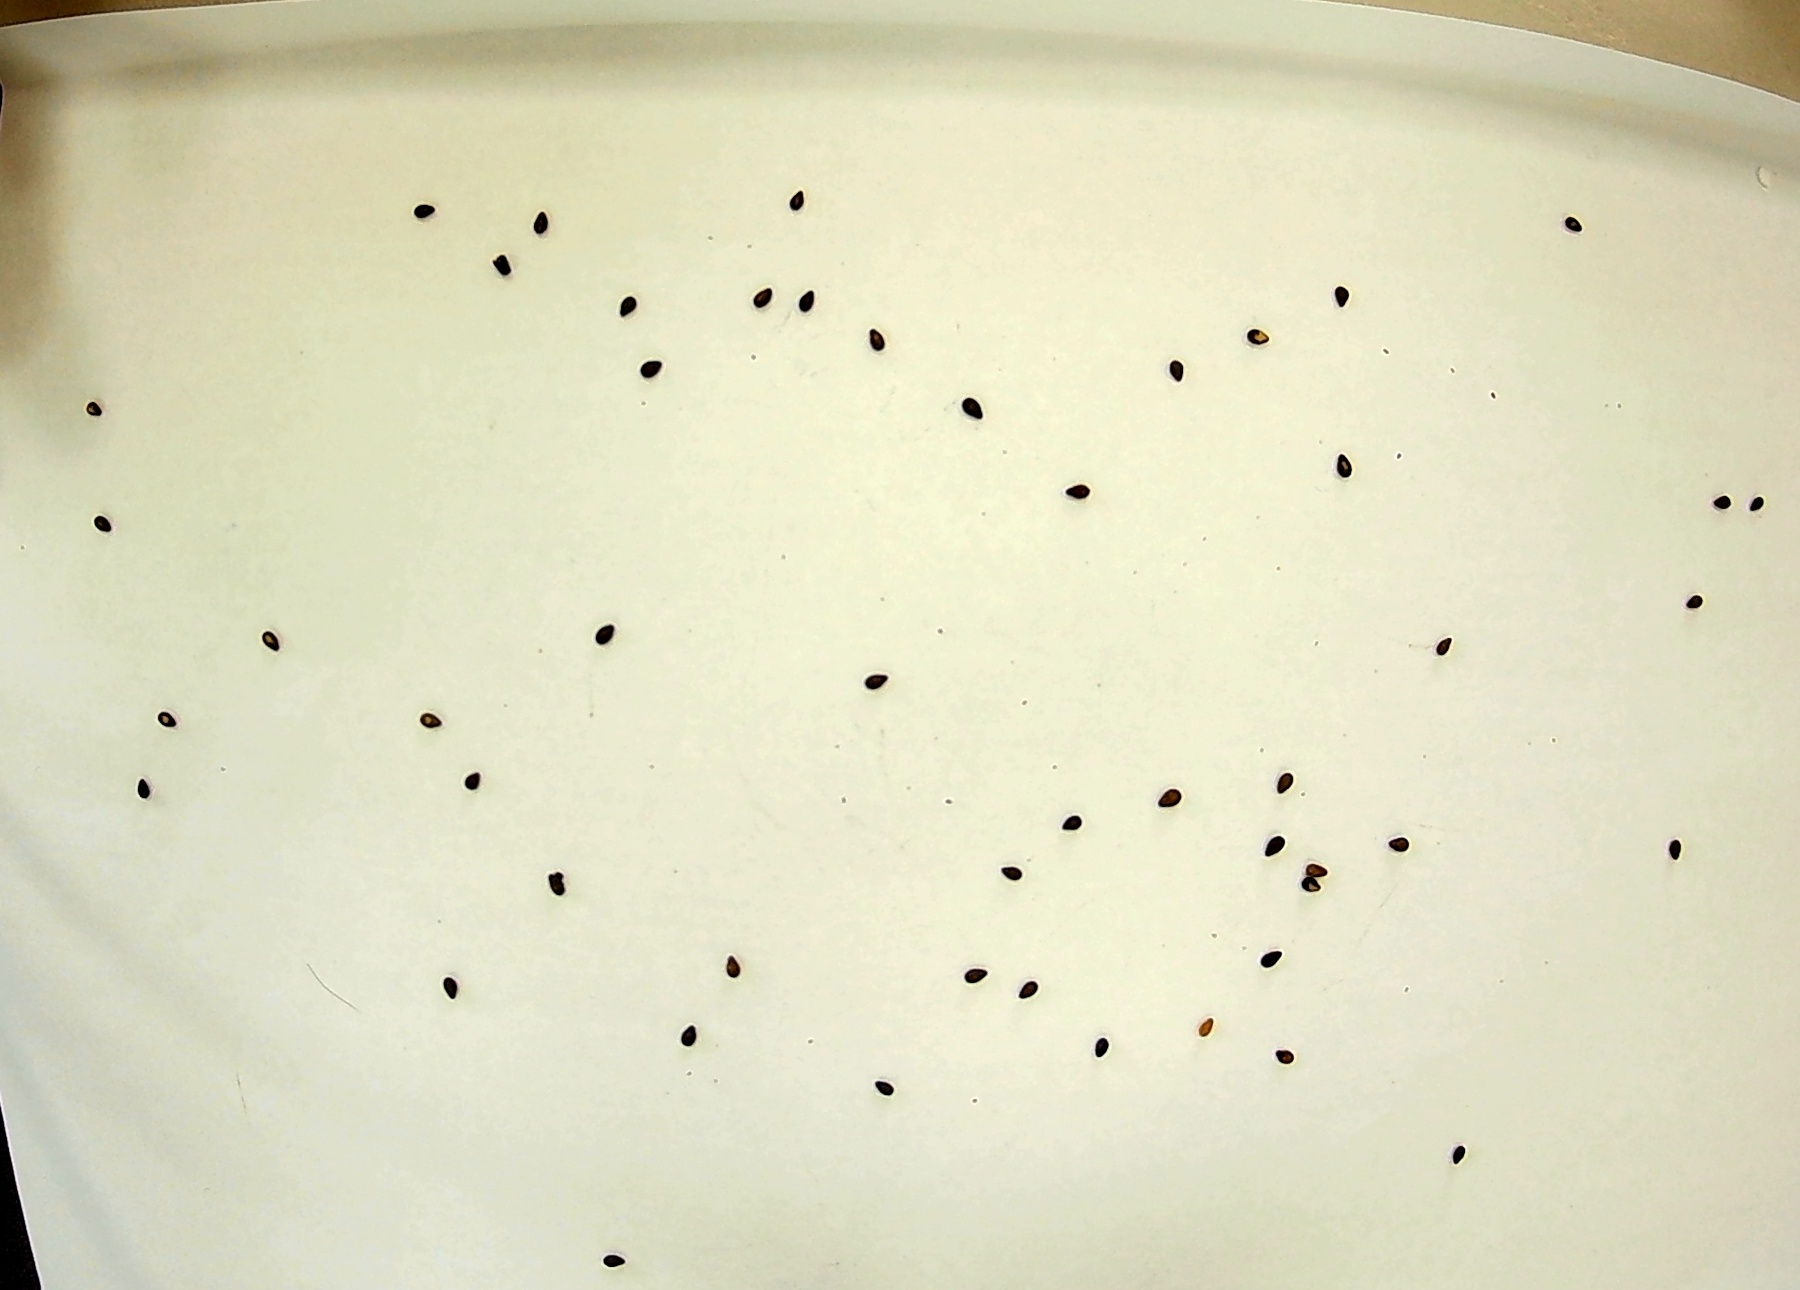sesami: (470, 246, 518, 285), (508, 198, 555, 237), (604, 282, 652, 321), (407, 193, 440, 230), (73, 394, 105, 431), (453, 754, 486, 792), (680, 1018, 712, 1055), (587, 611, 620, 649), (1053, 803, 1086, 840), (1453, 1136, 1485, 1174), (1148, 778, 1180, 815), (714, 947, 747, 983), (640, 353, 673, 390), (795, 283, 827, 320), (781, 175, 813, 211), (1194, 1007, 1227, 1043), (1273, 773, 1305, 810), (1746, 483, 1778, 519), (89, 504, 120, 542), (419, 692, 449, 730), (593, 1237, 624, 1275), (745, 278, 776, 316), (862, 316, 893, 353), (1158, 362, 1189, 399), (1328, 281, 1359, 318), (1337, 450, 1367, 487), (867, 1069, 897, 1107), (1016, 972, 1047, 1009), (1086, 1028, 1116, 1065), (1299, 842, 1330, 880), (1253, 937, 1284, 974), (149, 699, 180, 736), (127, 766, 158, 803), (250, 624, 280, 660), (537, 857, 568, 894), (438, 973, 469, 1009), (966, 395, 996, 431), (1060, 475, 1091, 511), (1246, 309, 1277, 345), (1566, 207, 1596, 243), (868, 660, 899, 697), (1005, 854, 1035, 891), (960, 947, 991, 983), (1264, 1037, 1295, 1074), (1655, 839, 1686, 875), (1388, 826, 1419, 863), (1296, 878, 1327, 914), (1261, 826, 1292, 863), (1432, 623, 1462, 659), (1681, 584, 1712, 620), (1711, 484, 1741, 521)
